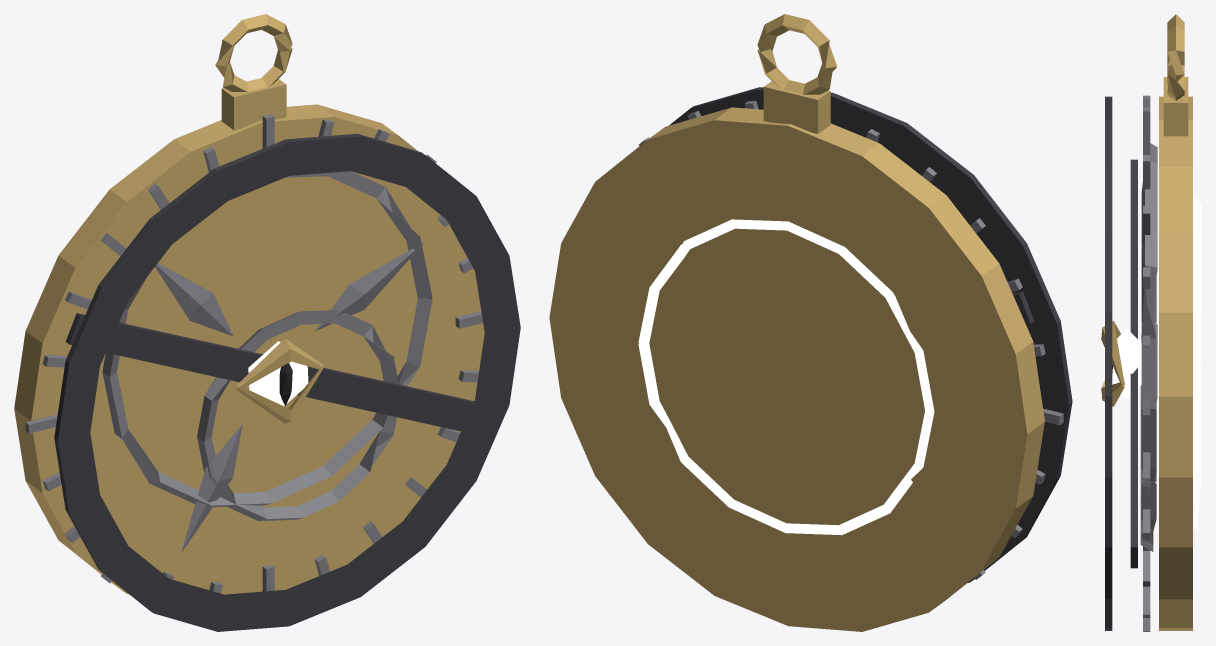
File: engine-astrolabe.glb
3 renders of one model, left to right at view 1: azimuth 30°, elevation 25°; view 2: azimuth 150°, elevation 25°; view 3: azimuth 270°, elevation 25°, orthographic. The views are drawn at different scales.
Visible parts, largest first — view 1: astrolabe_body; view 2: astrolabe_body; view 3: astrolabe_body.
Boxes of the visible parts, bbox=[...] form: astrolabe_body: bbox=[14, 14, 520, 631]; astrolabe_body: bbox=[549, 14, 1072, 631]; astrolabe_body: bbox=[1101, 14, 1201, 631].
Size of the model in its own units: 0.4592 by 0.5398 by 0.0821.
